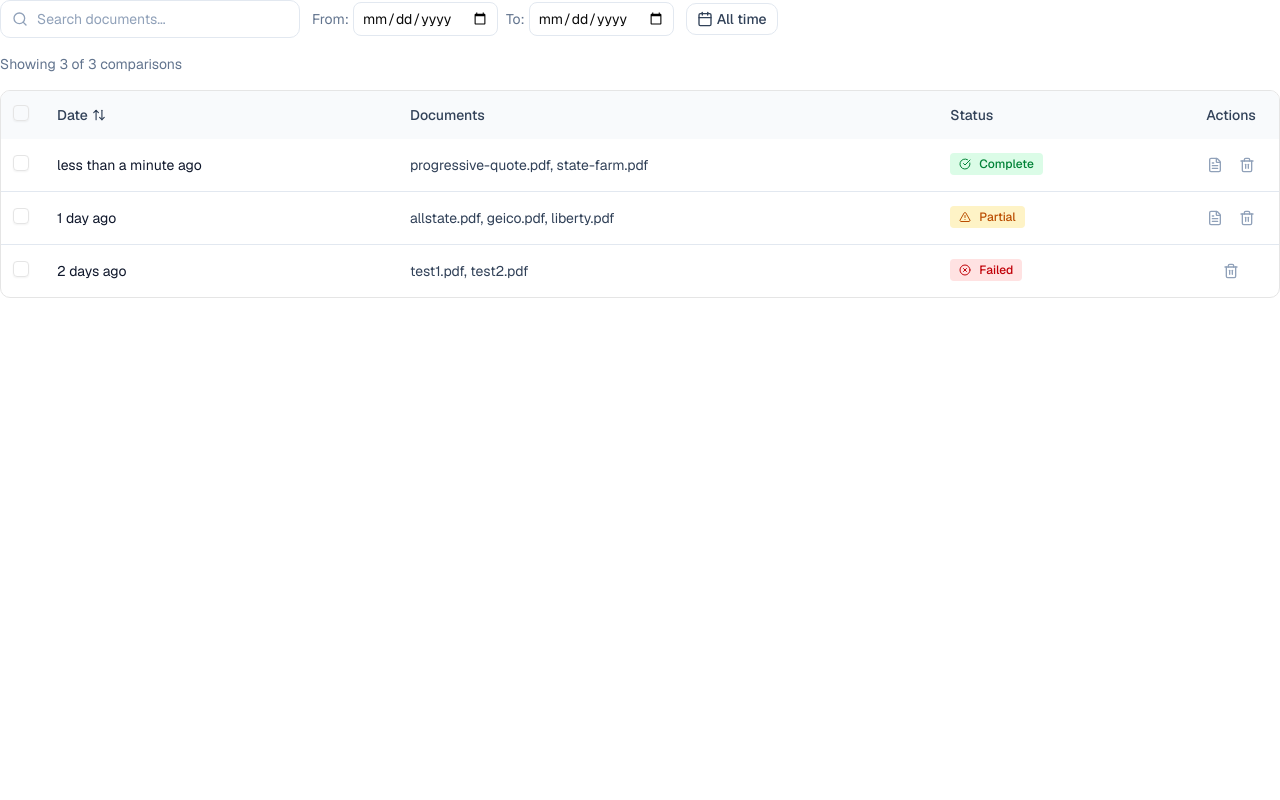
Test: ComparisonHistory › AC-7.7.3 & AC-7.7.7: Delete Functionality › shows confirmation dialog on individual delete
The width and height of the screenshot is (1280, 800).
Expected: the element with test id "comparison-history" is shown, [0,0,1279,298]
// Find and click a delete button
Step 1. Click the button named "Delete comparison" in the row of "less than a minute ago" → (1247, 165), box [1233,151,1261,179]
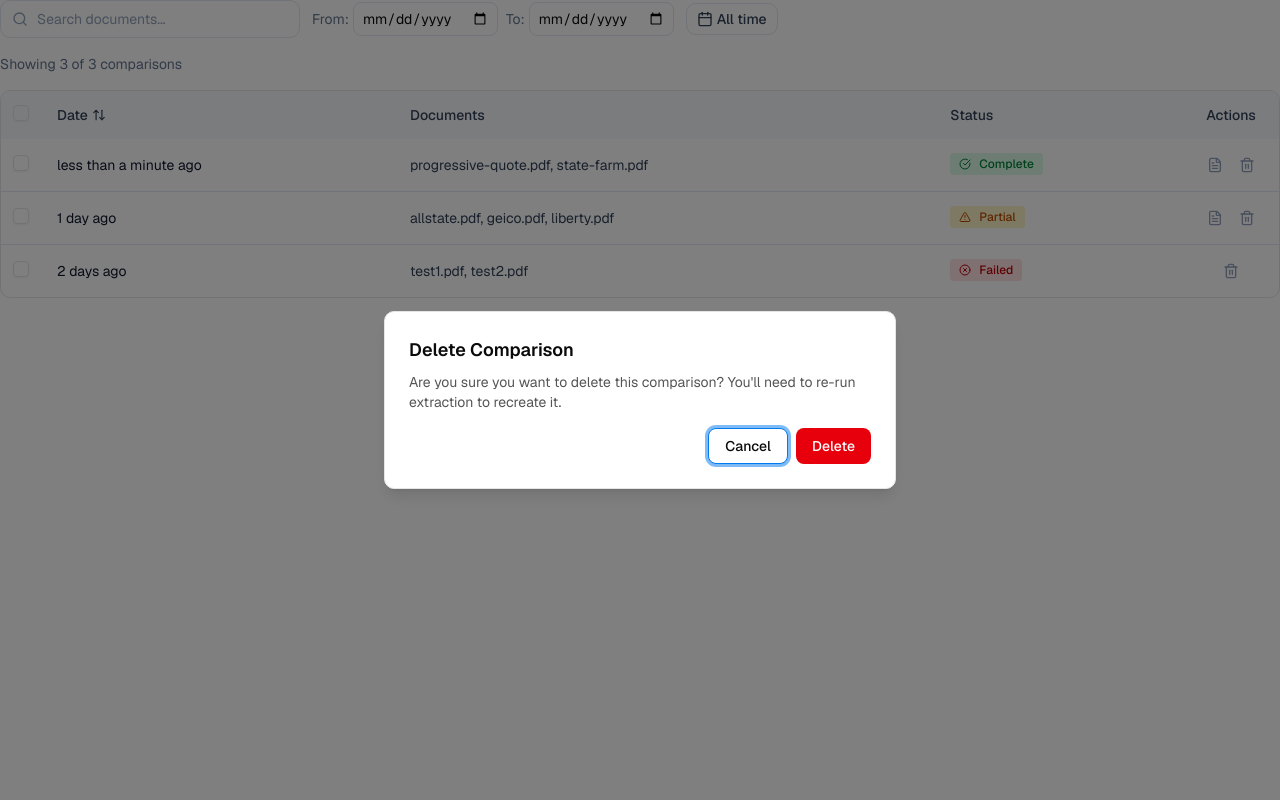
Expected: the heading "Delete Comparison" is shown, [409,338,574,361]
Expected: the text "Are you sure you want to delete this comparison" is shown, [409,373,856,411]
